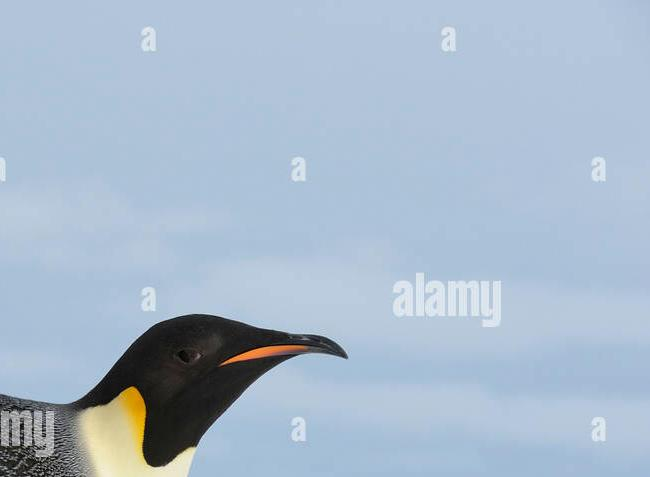Emperor Penguin: (0, 254, 354, 477)
